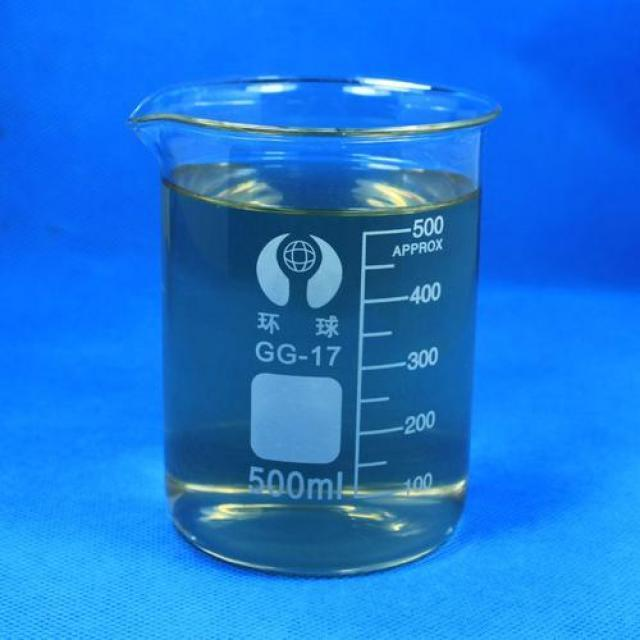Beaker: (132, 65, 502, 573)
